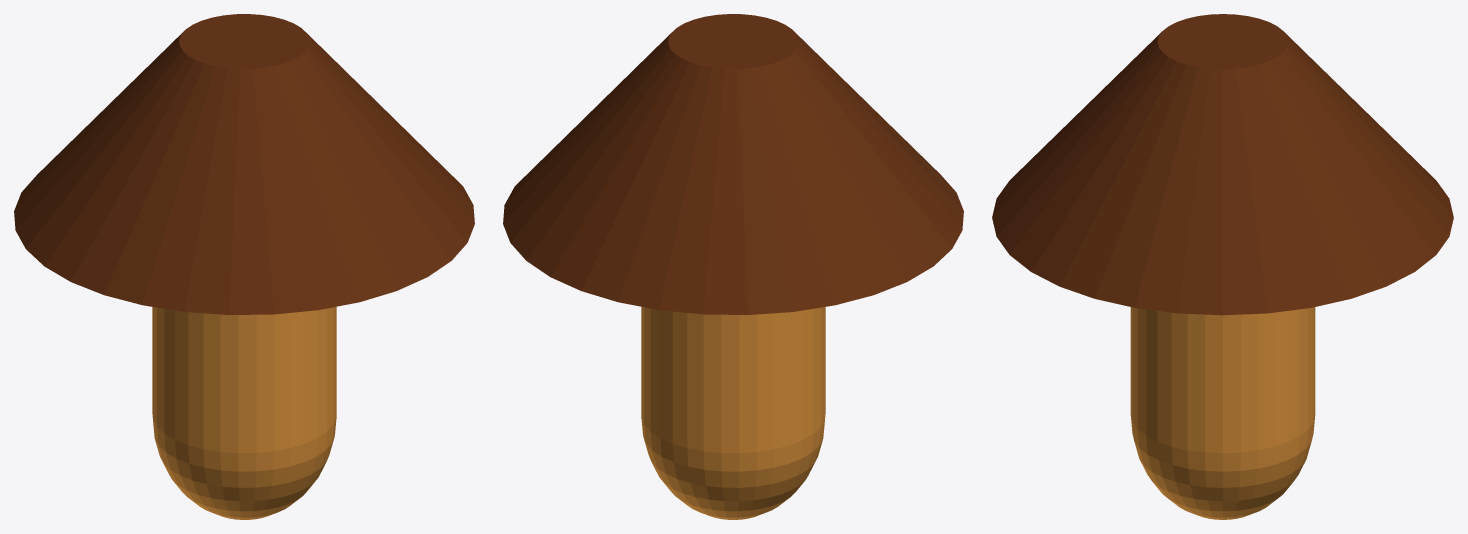
The model's file is kinoko.fbx.
3 renders of one model, left to right at view 1: azimuth 30°, elevation 25°; view 2: azimuth 150°, elevation 25°; view 3: azimuth 270°, elevation 25°, orthographic.
Parts seen in each view (by area): view 1: kinoko; view 2: kinoko; view 3: kinoko.
Part boxes in pixels (left/top/right/bottom): kinoko: left=14, top=14, right=474, bottom=519; kinoko: left=503, top=14, right=963, bottom=519; kinoko: left=992, top=14, right=1453, bottom=519.
Size of the model in its own units: 160 by 180 by 160.
